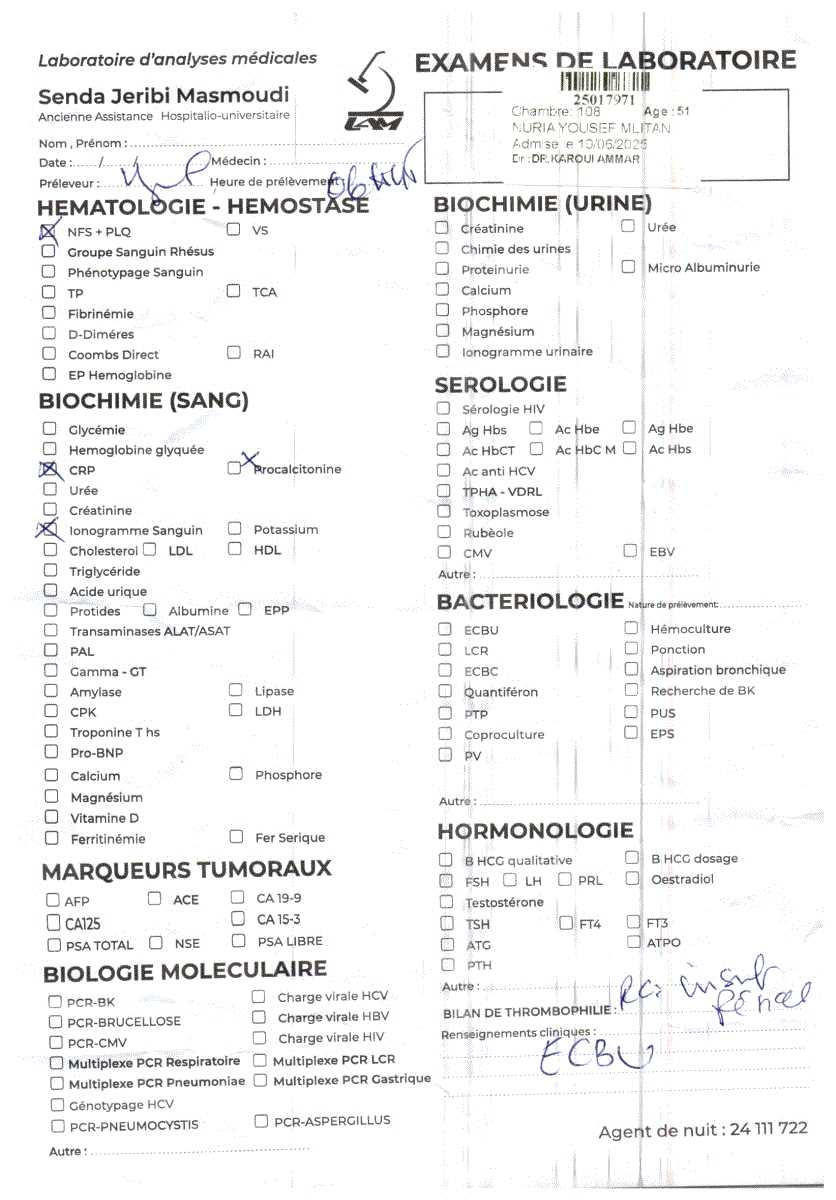zone_analyses: (32, 194, 836, 1200)
zone_date: (509, 134, 654, 154)
zone_patient: (507, 118, 682, 134)
zone_prescripteur: (510, 155, 649, 169)
